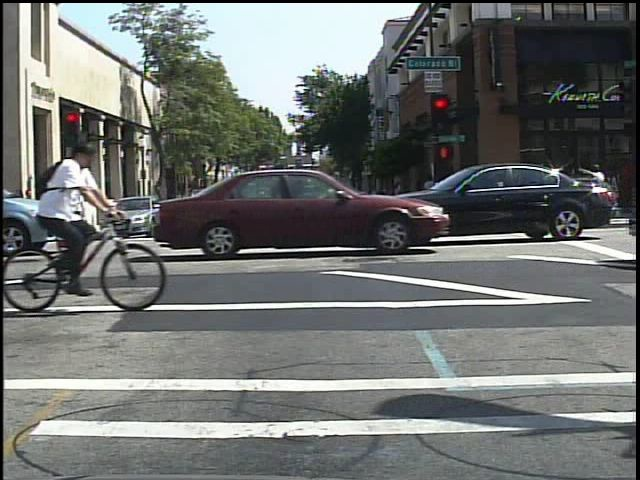person: (38, 126, 115, 304), (589, 158, 615, 223)
